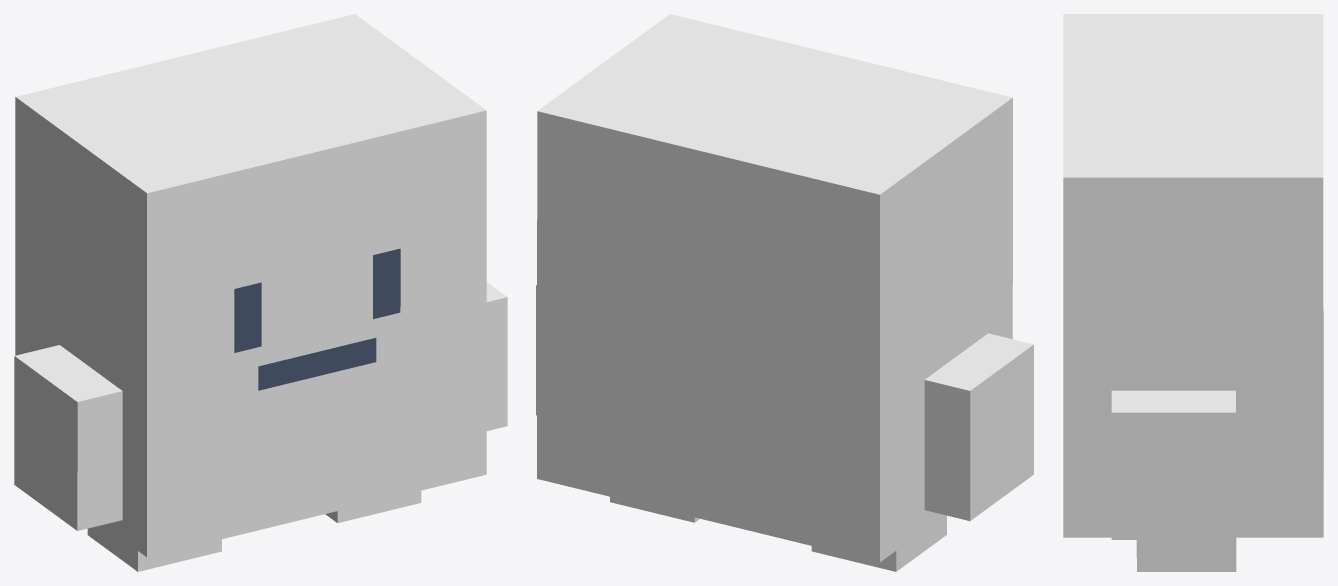
The model's file is Item_Scale@Turn.FBX.
3 views of the same model, side by side, from view 1: azimuth 30°, elevation 25°; view 2: azimuth 150°, elevation 25°; view 3: azimuth 270°, elevation 25° (orthographic). The views are drawn at different scales.
Parts seen in each view (by area): view 1: Item_Scale; view 2: Item_Scale; view 3: Item_Scale.
Boxes of the visible parts, x1,y1,x2,y2 form: Item_Scale: (14, 14, 507, 571); Item_Scale: (536, 14, 1033, 571); Item_Scale: (1063, 14, 1323, 571).
Bounding box in the file's own units: 5.35 × 4.91 × 2.85.
